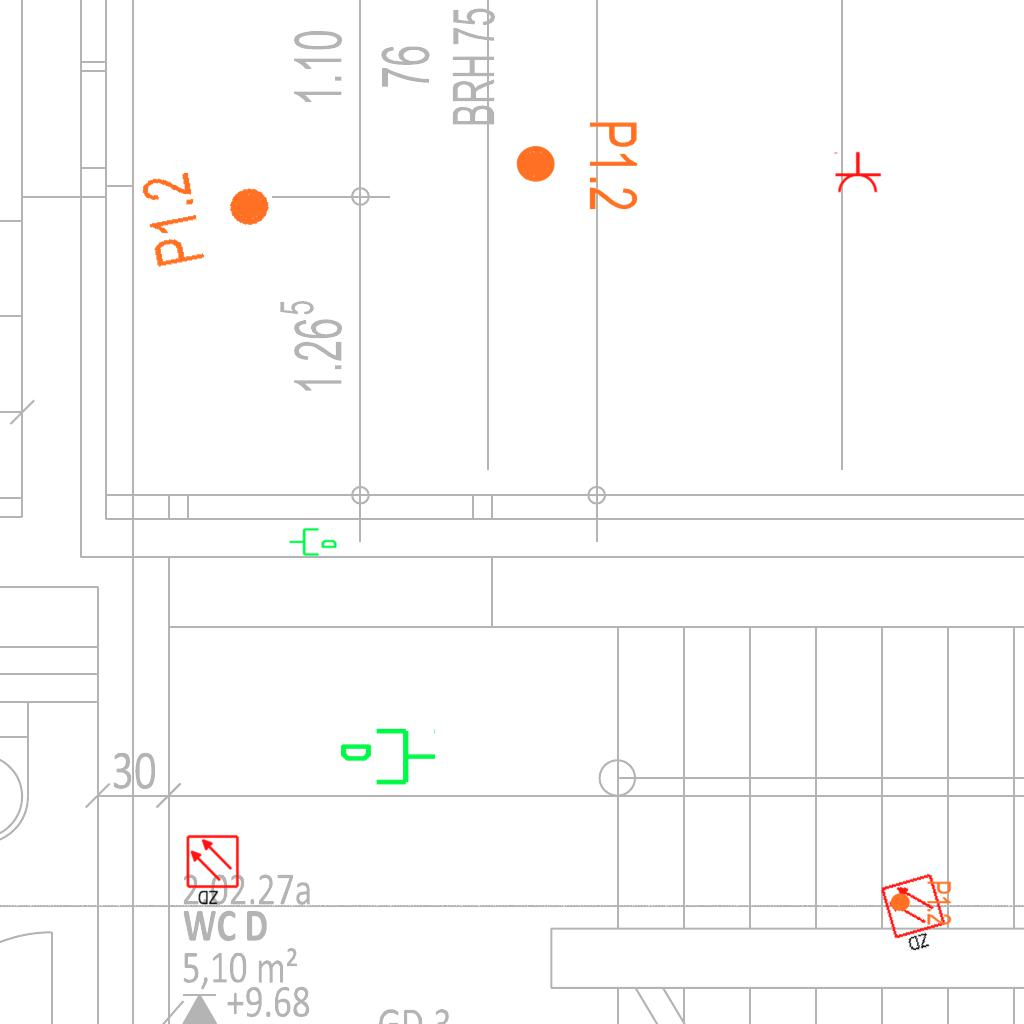Datenanschluss_einfach: (338, 724, 438, 793), (288, 524, 338, 558)
Downlight_LED_Einbauleuchten_Flur: (136, 155, 281, 271), (513, 119, 641, 212), (889, 880, 953, 926)
Schukosteckdose_einfach: (832, 151, 882, 194)
ZD_Melder_in_Zwischendecke_mit_Revisionsoeffnung_mind_40_x_40_cm: (878, 871, 955, 959), (185, 834, 242, 908)
